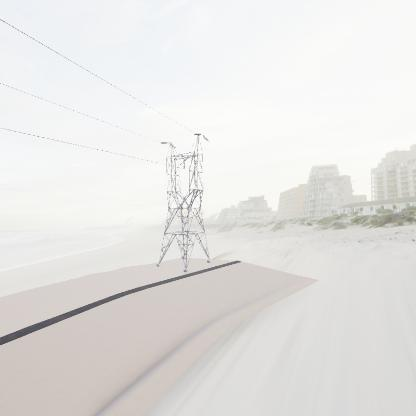tower: (155, 127, 216, 279)
